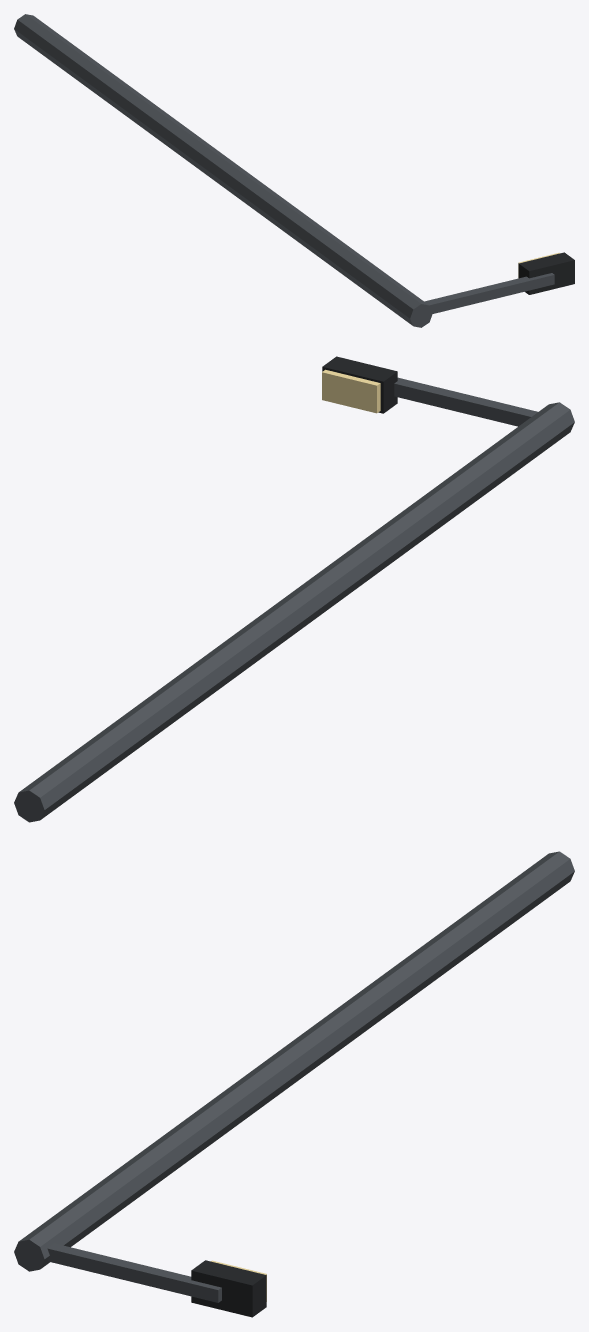
The model's file is streetlight_single.obj.
3 renders of one model, top to bottom at view 1: azimuth 30°, elevation 25°; view 2: azimuth 150°, elevation 25°; view 3: azimuth 330°, elevation 25°, orthographic. The views are drawn at different scales.
Parts seen in each view (by area): view 1: streetlight_single_pole, streetlight_single_arm, streetlight_single_head; view 2: streetlight_single_pole, streetlight_single_arm, streetlight_single_lens, streetlight_single_head; view 3: streetlight_single_pole, streetlight_single_arm, streetlight_single_head.
Part boxes in pixels (<box>): streetlight_single_pole: <box>14,14,432,327</box>; streetlight_single_arm: <box>424,273,554,313</box>; streetlight_single_head: <box>518,252,574,294</box>; streetlight_single_pole: <box>14,402,574,822</box>; streetlight_single_arm: <box>394,377,537,426</box>; streetlight_single_lens: <box>322,369,380,413</box>; streetlight_single_head: <box>322,356,397,413</box>; streetlight_single_pole: <box>14,851,574,1271</box>; streetlight_single_arm: <box>47,1243,221,1302</box>; streetlight_single_head: <box>191,1260,266,1317</box>.
Size of the model in its own units: 2.25 by 0.3 by 9.
